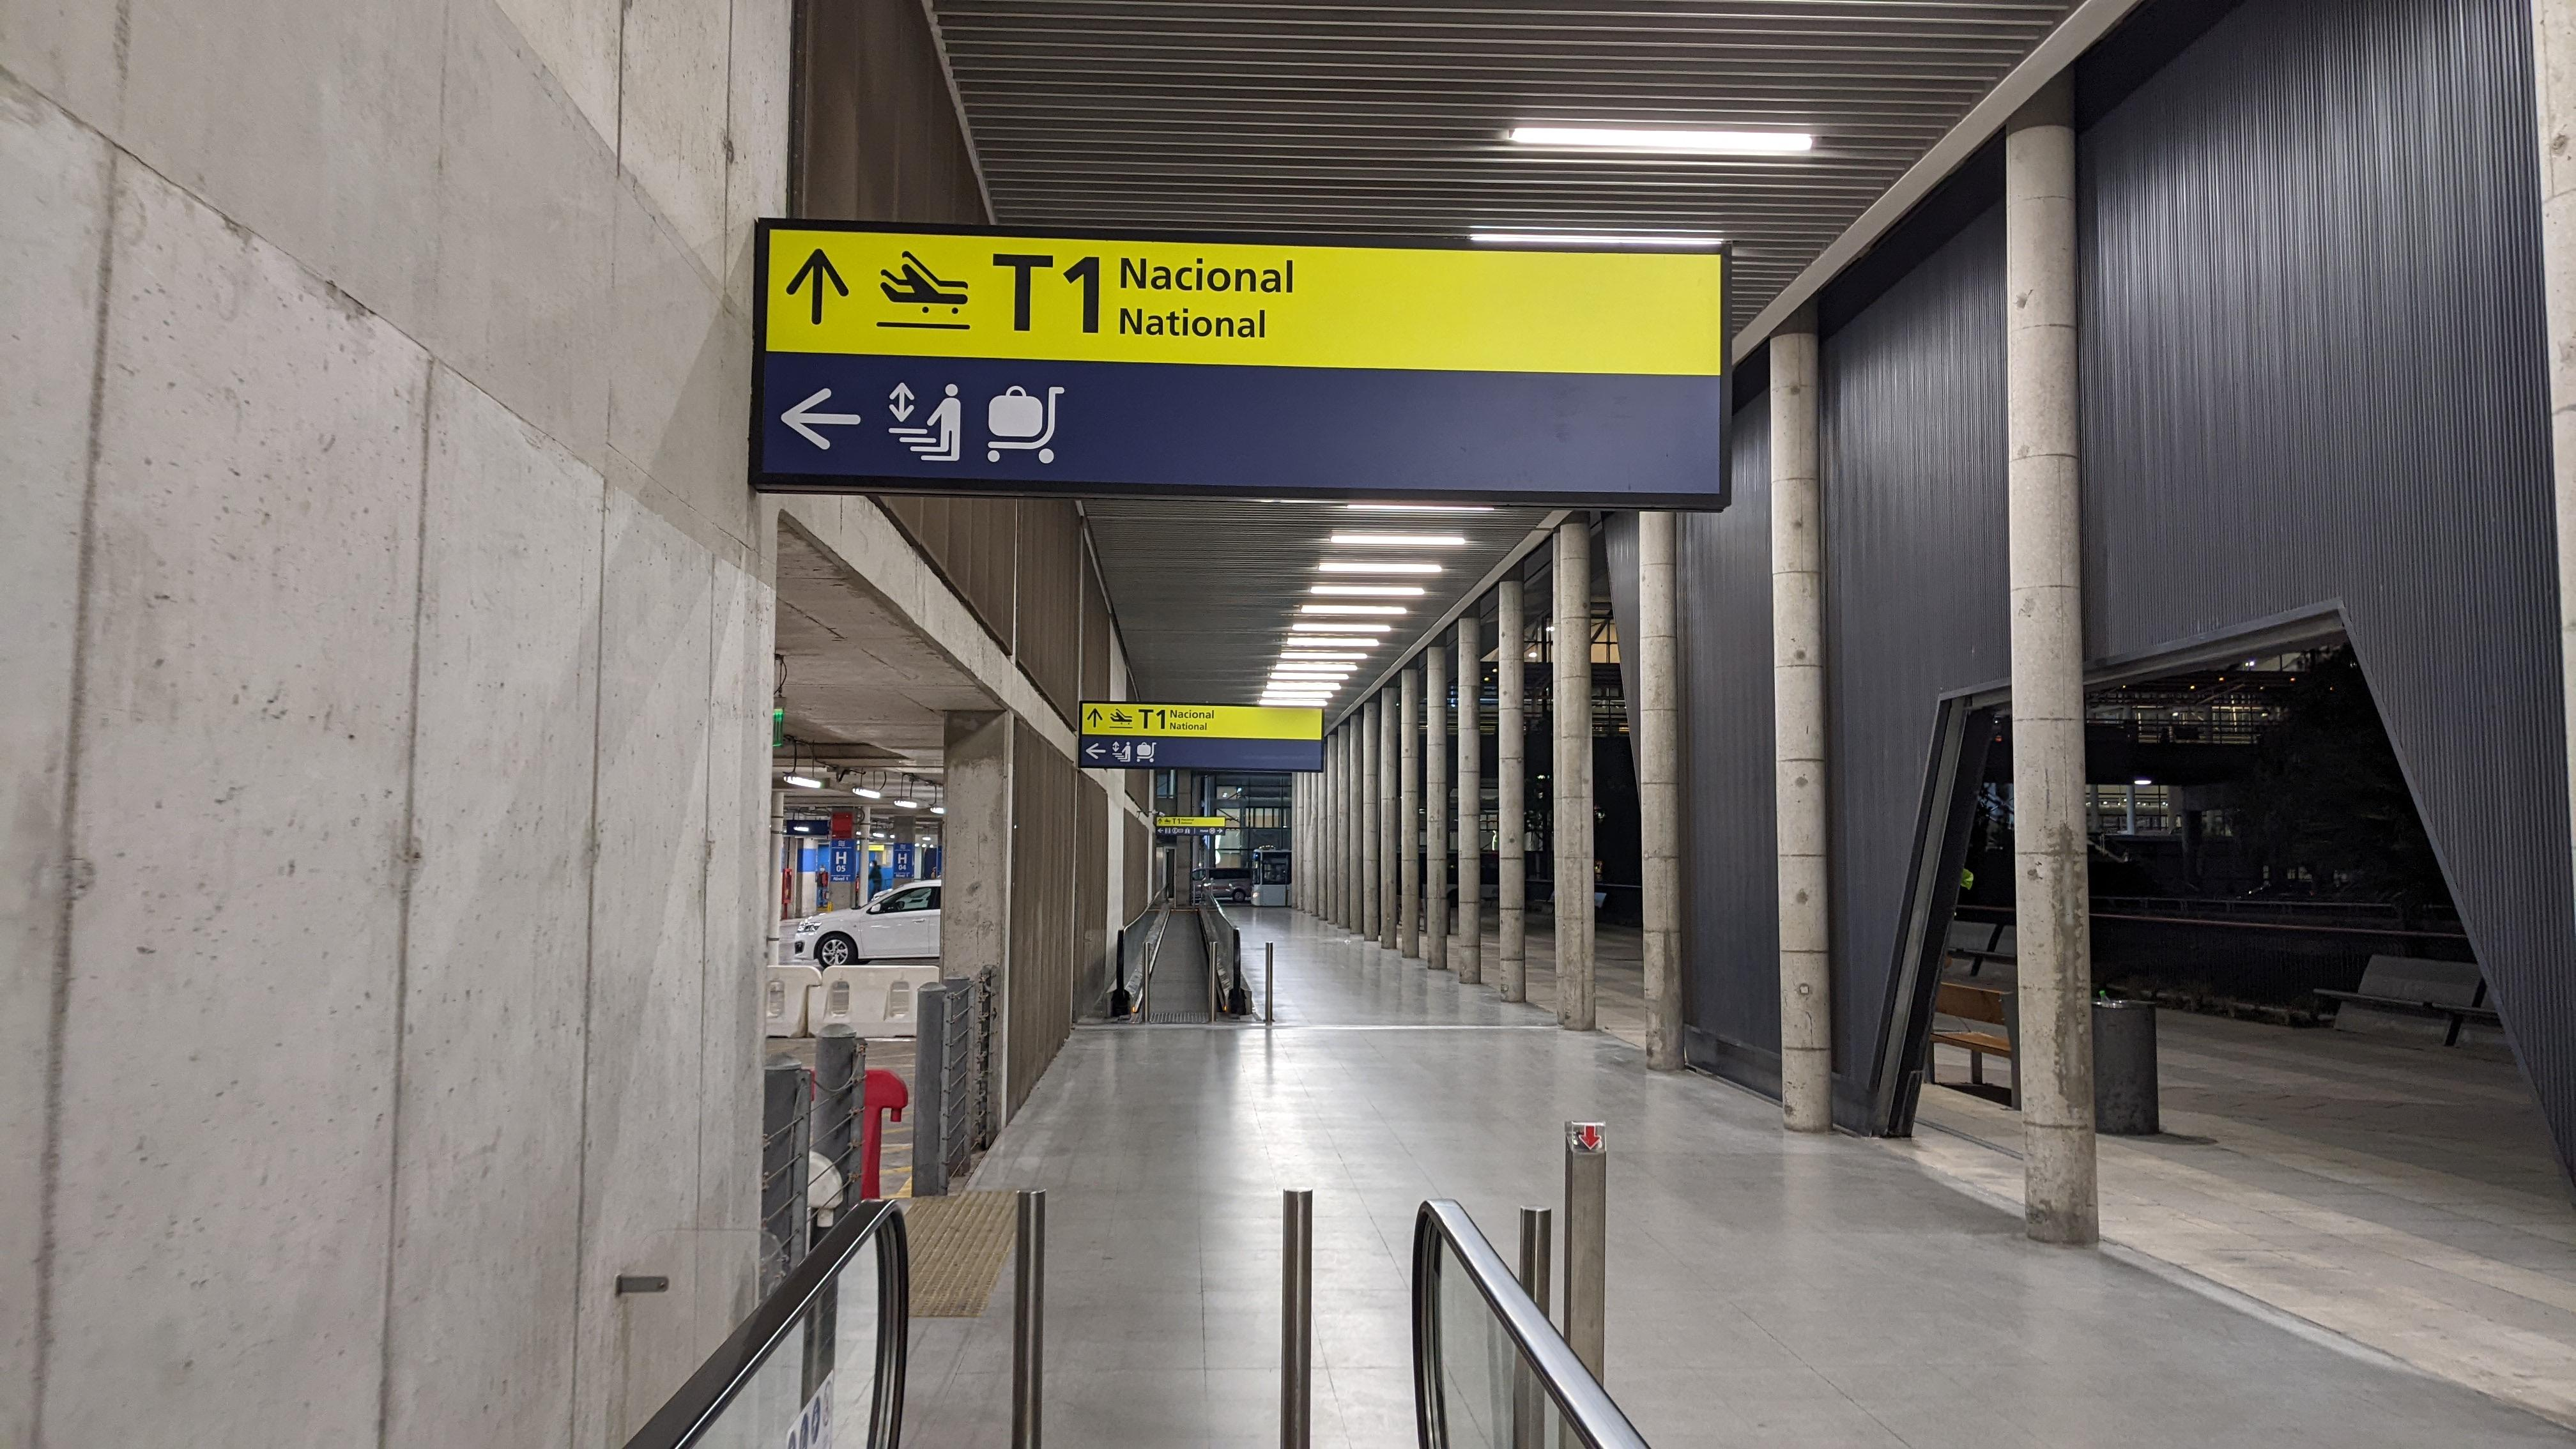airplane symbol: (876, 260, 971, 306)
baggage claim: (986, 384, 1044, 440), (1110, 712, 1133, 723), (1136, 742, 1151, 756)
left arrow: (1157, 827, 1164, 834)
thin left arrow: (778, 387, 863, 451), (1085, 742, 1107, 759), (1216, 828, 1223, 834)
thin up arrow: (785, 246, 851, 326), (1085, 707, 1104, 730)
up arrow: (1158, 818, 1162, 824)
